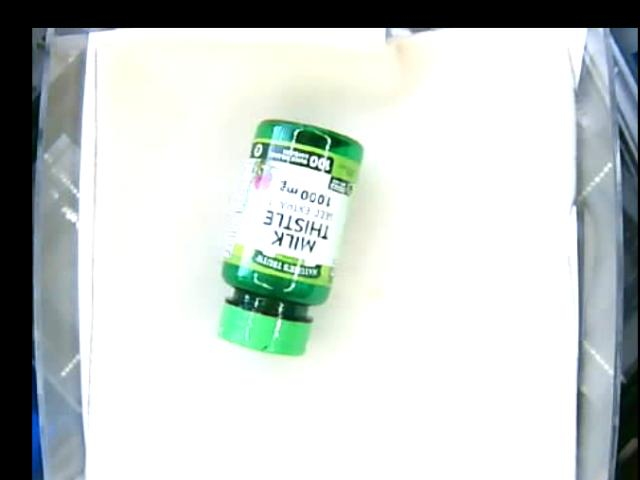Bottle: (216, 118, 359, 353)
